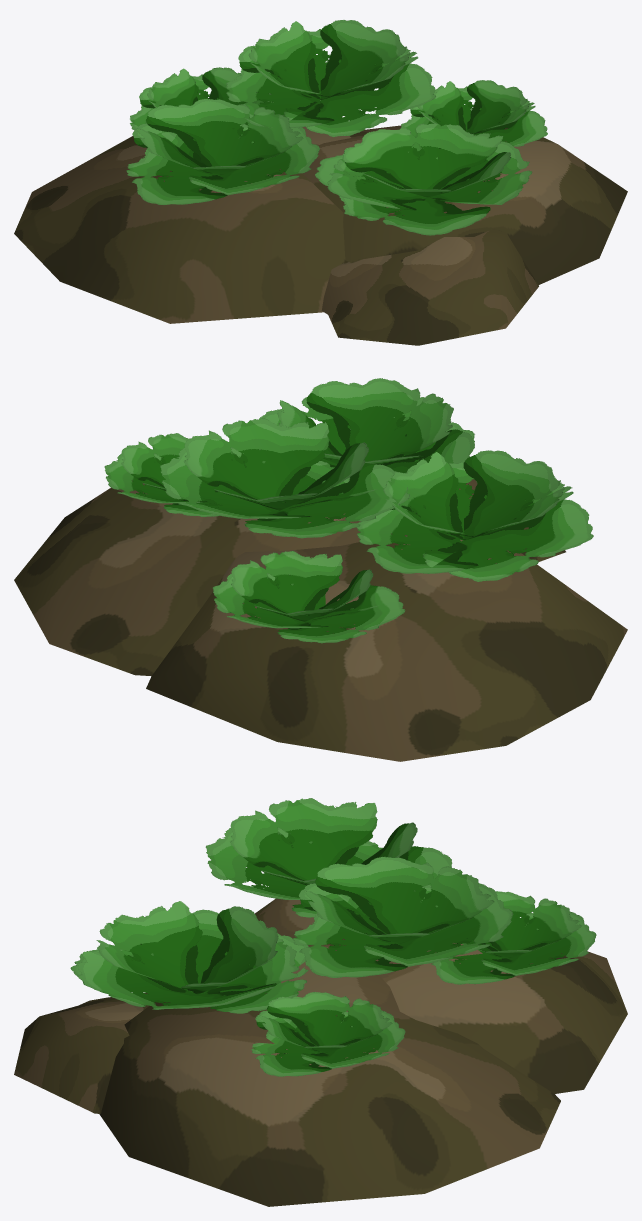
Rendered from Lettuce Coral 3_preview_3DS_simplified.glb.
3 renders of one model, top to bottom at view 1: azimuth 30°, elevation 25°; view 2: azimuth 150°, elevation 25°; view 3: azimuth 270°, elevation 25°, orthographic. The views are drawn at different scales.
Parts seen in each view (by area): view 1: Marine Park Empire model; view 2: Marine Park Empire model; view 3: Marine Park Empire model.
Boxes of the visible parts, box(x1,y1,x2,y2) form: Marine Park Empire model: box(14, 20, 627, 345); Marine Park Empire model: box(14, 378, 627, 761); Marine Park Empire model: box(14, 798, 627, 1206).
Size of the model in its own units: 114 by 32.92 by 102.
Materials: 2 (2 with a texture image).
